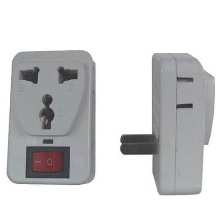three_eye_plug: (114, 47, 217, 199), (3, 48, 97, 185)
